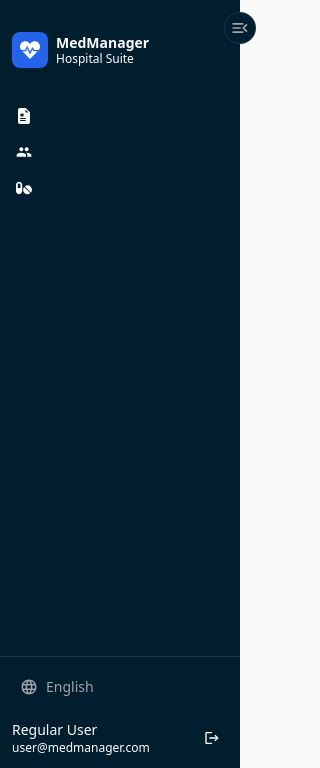
Scenario: Sidebar › when it is rendered › when the toggle button is clicked › should change the toggle aria-label to Expand
Step 1. Click the button named "Collapse Sidebar" → (240, 28), box [224,12,256,44]
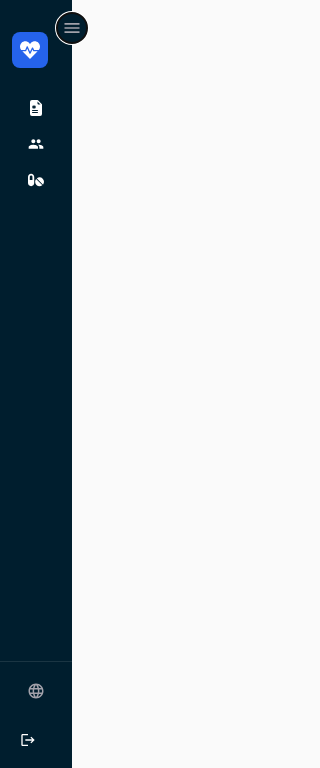
Check: the button named "Expand Sidebar" is shown, box [56,12,88,44]
